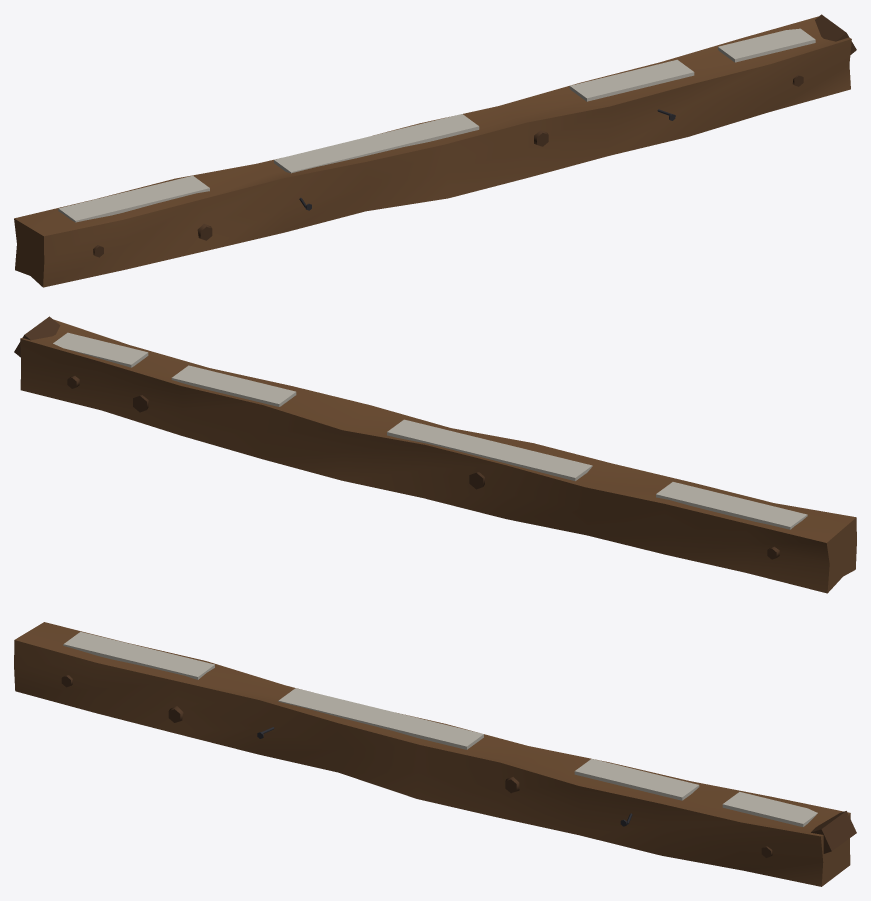
The model's file is Dakbalk.glb.
The picture shows the model from 3 angles, top to bottom: view 1: azimuth 30°, elevation 25°; view 2: azimuth 150°, elevation 25°; view 3: azimuth 330°, elevation 25°; orthographic projection.
Visible parts, largest first — view 1: Beam, Dust, KnotsPegs; view 2: Beam, Dust, KnotsPegs; view 3: Beam, Dust, KnotsPegs.
Boxes of the visible parts, <box> form: Beam: <box>14,16,851,287</box>; Dust: <box>58,28,815,222</box>; KnotsPegs: <box>93,14,856,257</box>; Beam: <box>20,319,856,593</box>; Dust: <box>53,332,807,529</box>; KnotsPegs: <box>14,316,779,559</box>; Beam: <box>14,622,850,886</box>; Dust: <box>63,631,817,826</box>; KnotsPegs: <box>61,675,856,857</box>.
Bounding box in the file's own units: 3.03 × 0.2355 × 0.2625.
